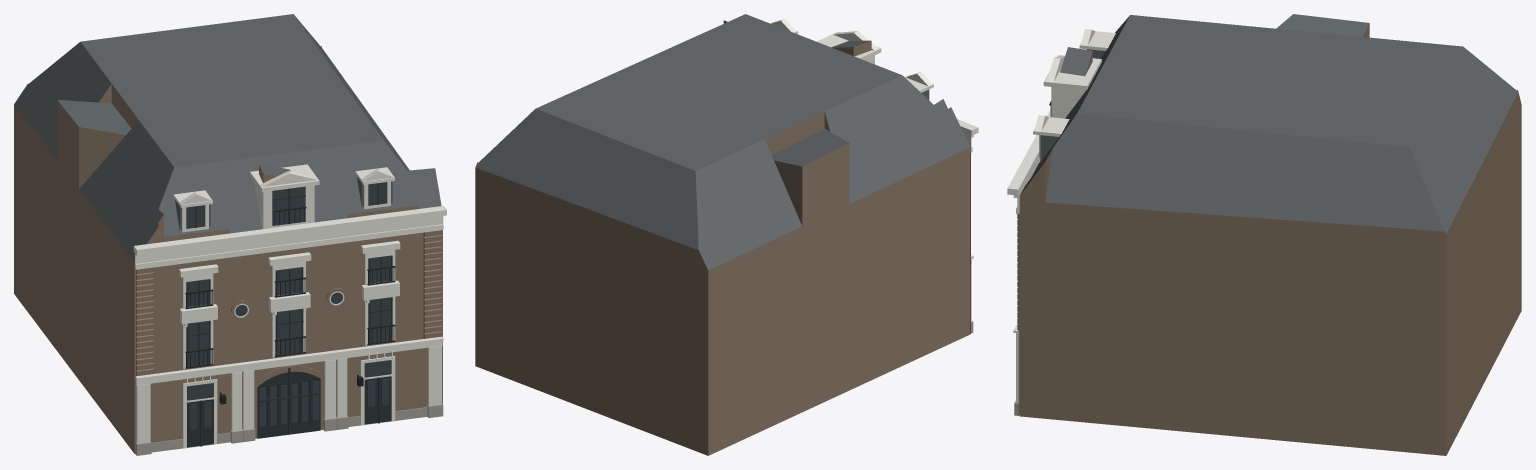
Rendered from koetshuis-keizersgracht-607.glb.
The picture shows the model from 3 angles, left to right: view 1: azimuth 30°, elevation 25°; view 2: azimuth 150°, elevation 25°; view 3: azimuth 270°, elevation 25°; orthographic projection. The views are drawn at different scales.
Visible parts, largest first — view 1: koetshuis-keizersgracht-607; view 2: koetshuis-keizersgracht-607; view 3: koetshuis-keizersgracht-607.
Boxes of the visible parts, <box> form: koetshuis-keizersgracht-607: <box>14,14,446,455</box>; koetshuis-keizersgracht-607: <box>475,14,978,455</box>; koetshuis-keizersgracht-607: <box>1007,14,1521,455</box>.
Size of the model in its own units: 18.76 by 13.47 by 21.95.
